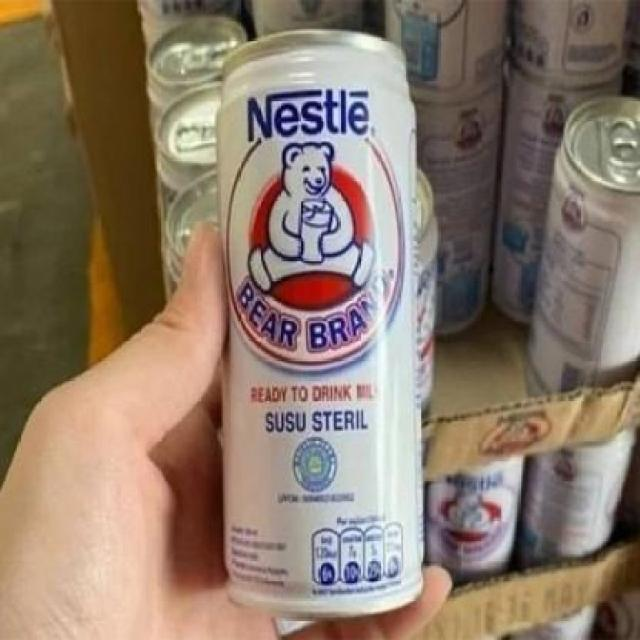Metal: (214, 31, 422, 617)
